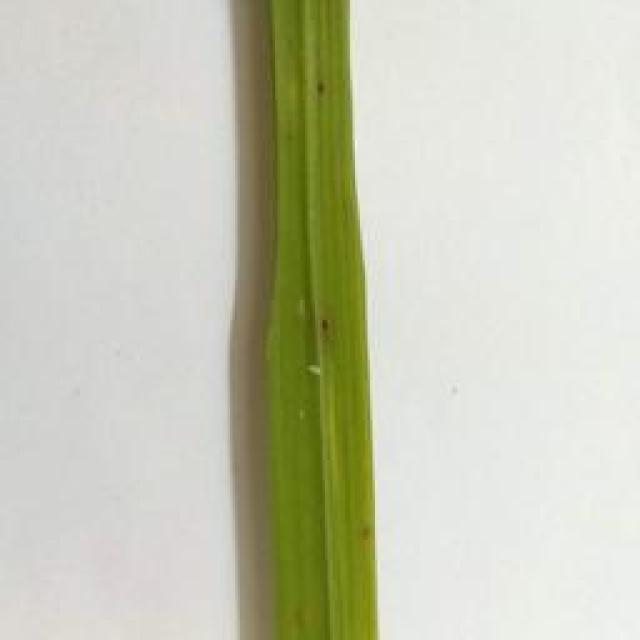Brown_Spot: (310, 66, 330, 105), (315, 308, 337, 341), (360, 525, 377, 547)
